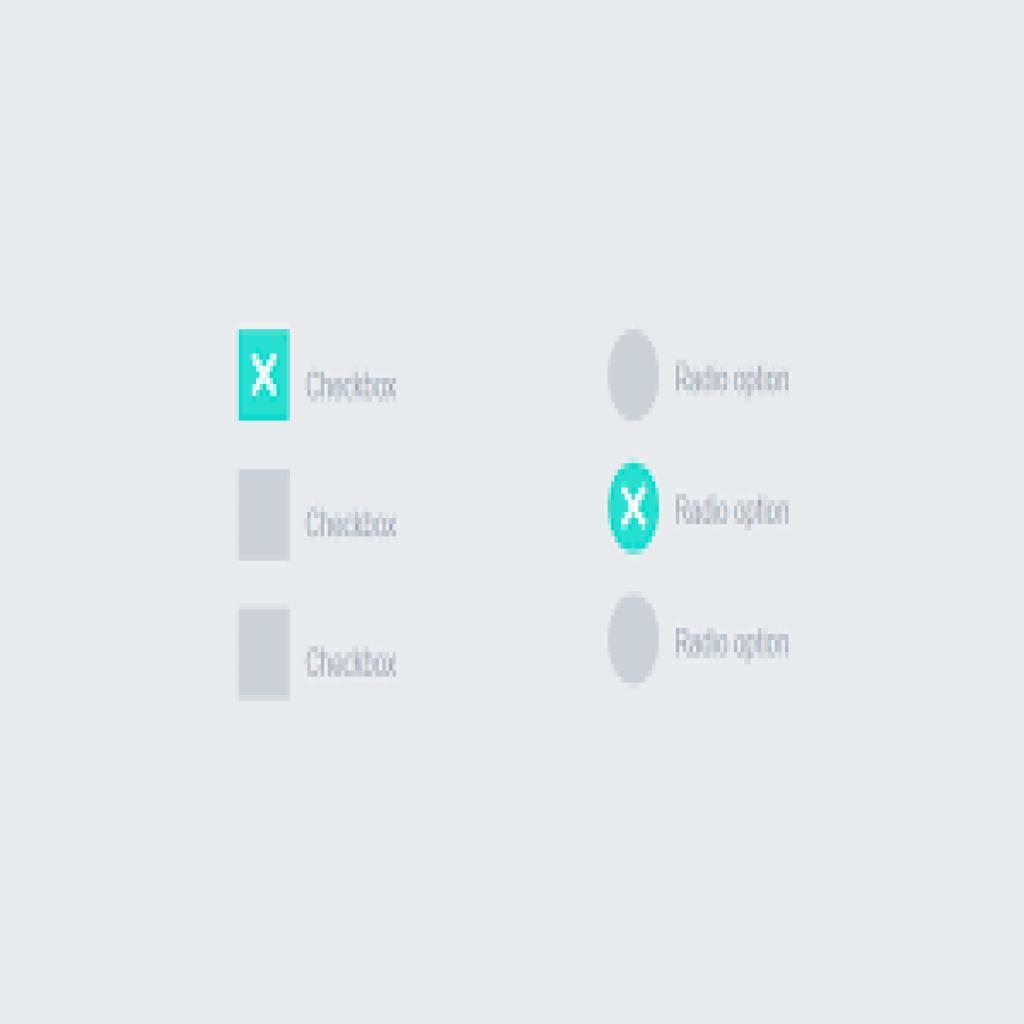checkbox: (237, 328, 295, 422), (242, 470, 291, 563), (241, 607, 291, 698)
label: (672, 488, 794, 533), (672, 624, 794, 665), (674, 358, 793, 400), (304, 640, 400, 684), (302, 367, 399, 409), (302, 504, 402, 543)
radio: (604, 326, 663, 425), (605, 592, 663, 688), (606, 462, 661, 558)
